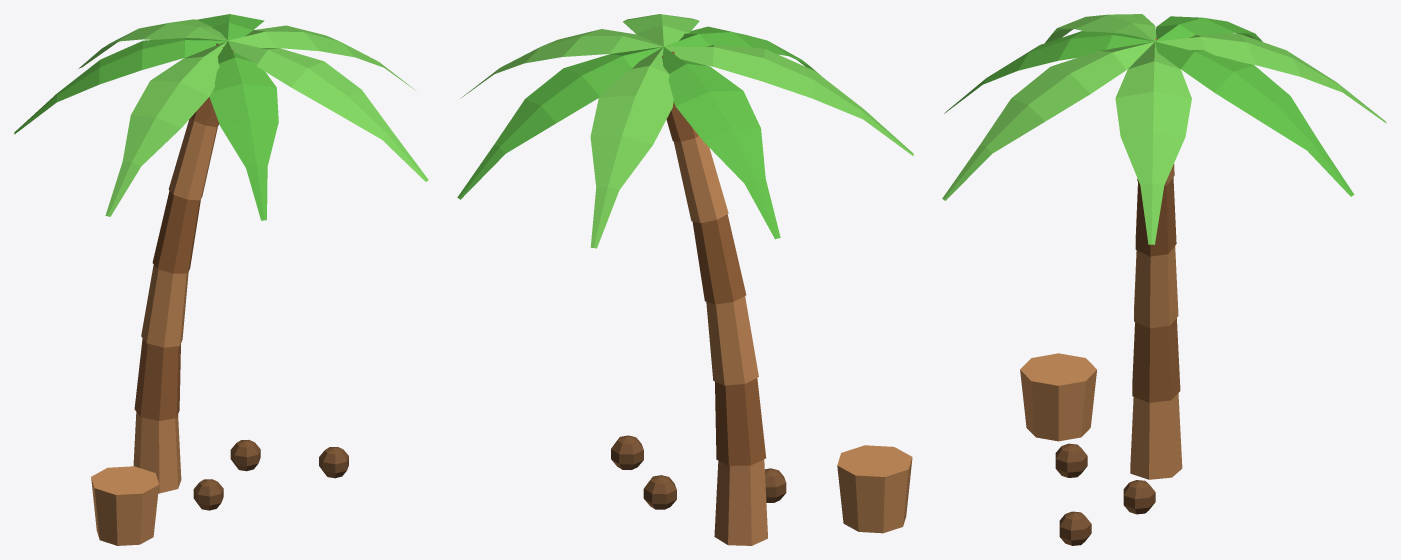
The model's file is station_coconut_palm.glb.
3 views of the same model, side by side, from view 1: azimuth 30°, elevation 25°; view 2: azimuth 150°, elevation 25°; view 3: azimuth 270°, elevation 25° (orthographic). The views are drawn at different scales.
Parts seen in each view (by area): view 1: station_coconut_palm; view 2: station_coconut_palm; view 3: station_coconut_palm.
Boxes of the visible parts, x1,y1,x2,y2 form: station_coconut_palm: [14, 14, 428, 545]; station_coconut_palm: [457, 14, 913, 545]; station_coconut_palm: [942, 14, 1386, 545].
Bounding box in the file's own units: 2.86 × 3.2 × 2.77.
